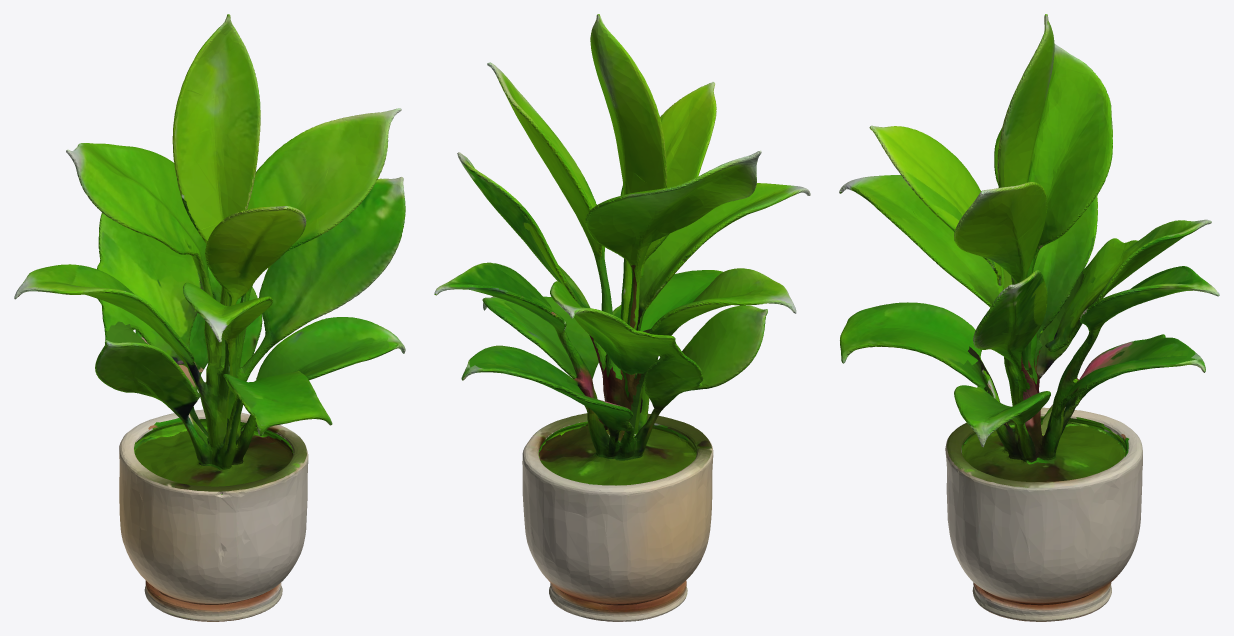
File: biomechanical-growth-planter-generated-2026-04-18T02-10-29-603Z.high.glb
3 renders of one model, left to right at view 1: azimuth 30°, elevation 25°; view 2: azimuth 150°, elevation 25°; view 3: azimuth 270°, elevation 25°, orthographic. The views are drawn at different scales.
Parts seen in each view (by area): view 1: temp_mesh.ply; view 2: temp_mesh.ply; view 3: temp_mesh.ply.
Part boxes in pixels (left/top/right/bottom): temp_mesh.ply: left=14, top=14, right=405, bottom=621; temp_mesh.ply: left=434, top=14, right=810, bottom=621; temp_mesh.ply: left=839, top=14, right=1219, bottom=621.
Bounding box in the file's own units: 1.3 × 1.97 × 1.16.
1 material, 1 textured.
